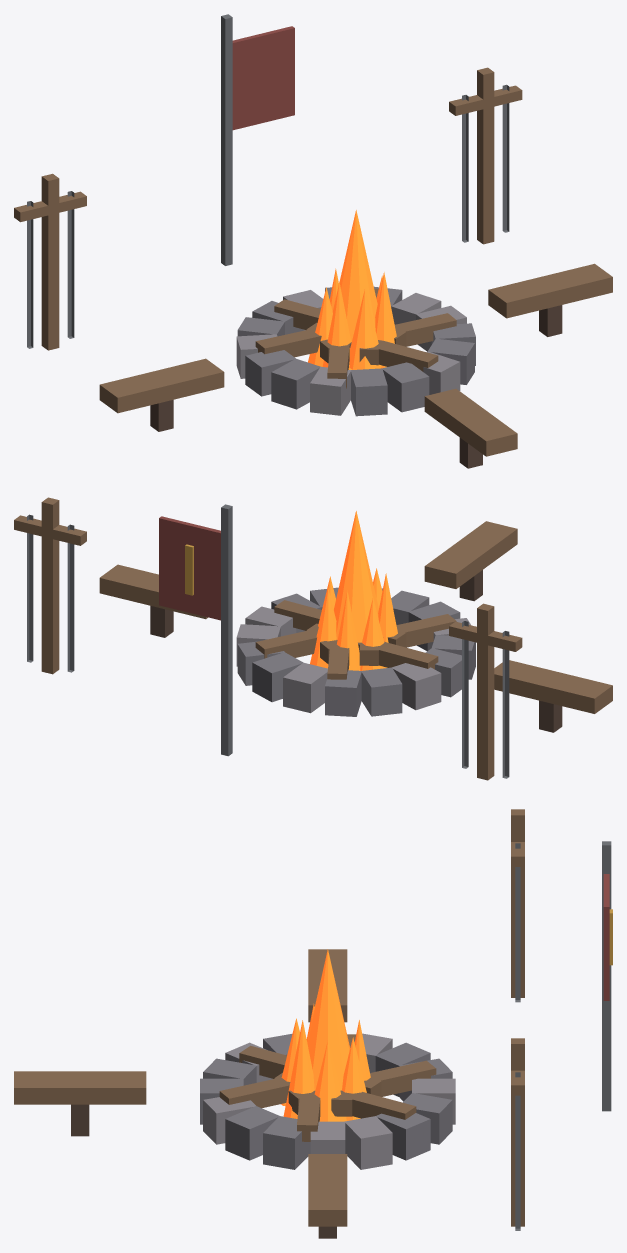
Rendered from army_camp.glb.
3 views of the same model, one above another, from view 1: azimuth 30°, elevation 25°; view 2: azimuth 150°, elevation 25°; view 3: azimuth 270°, elevation 25° (orthographic). The views are drawn at different scales.
Visible parts, largest first — view 1: Ashen Legion Camp; view 2: Ashen Legion Camp; view 3: Ashen Legion Camp.
Part boxes in pixels (left/top/right/bottom): Ashen Legion Camp: left=14, top=14, right=612, bottom=468; Ashen Legion Camp: left=14, top=497, right=612, bottom=780; Ashen Legion Camp: left=14, top=809, right=612, bottom=1238.
Size of the model in its own units: 5.42 by 2.77 by 5.2.
